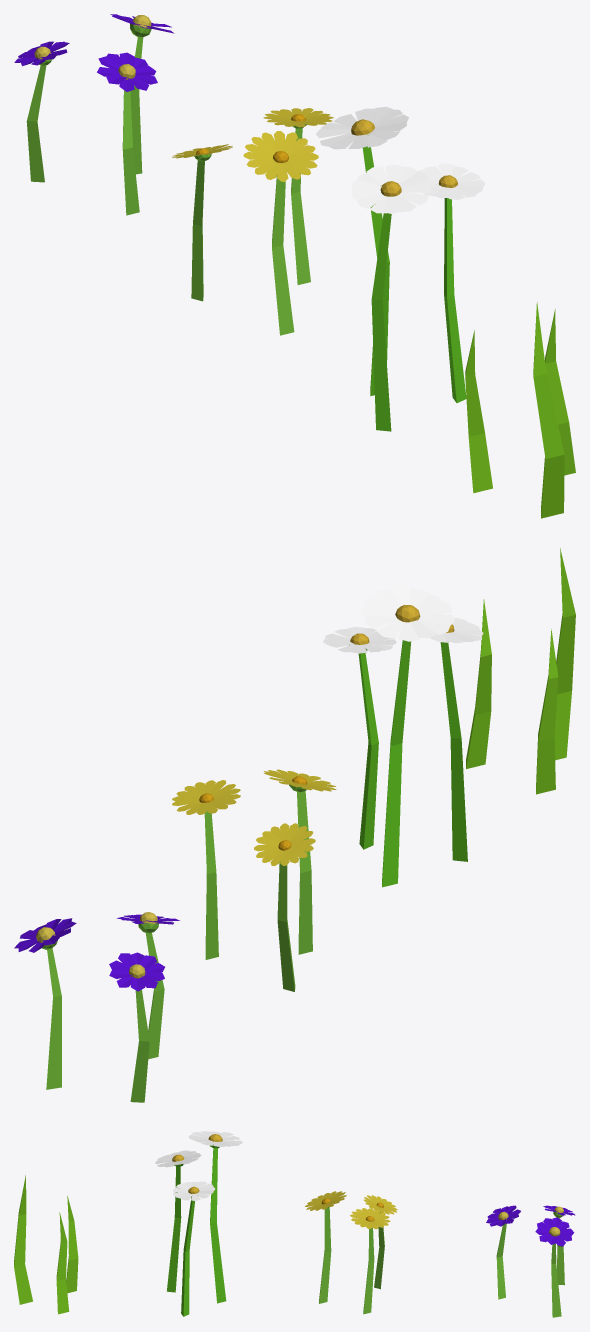
The model's file is grass.obj.
3 renders of one model, top to bottom at view 1: azimuth 30°, elevation 25°; view 2: azimuth 150°, elevation 25°; view 3: azimuth 270°, elevation 25°, orthographic. The views are drawn at different scales.
Parts seen in each view (by area): view 1: Cylinder, Cylinder.002_Cylinder.003, Cylinder.001, Cylinder.003_Cylinder.005; view 2: Cylinder, Cylinder.002_Cylinder.003, Cylinder.003_Cylinder.005, Cylinder.001; view 3: Cylinder, Cylinder.002_Cylinder.003, Cylinder.001, Cylinder.003_Cylinder.005.
Part boxes in pixels (x1,y1,x2,y2): Cylinder: [316, 106, 485, 431]; Cylinder.002_Cylinder.003: [172, 108, 333, 335]; Cylinder.001: [465, 302, 575, 518]; Cylinder.003_Cylinder.005: [14, 14, 174, 215]; Cylinder: [323, 585, 483, 887]; Cylinder.002_Cylinder.003: [172, 769, 336, 991]; Cylinder.003_Cylinder.005: [14, 912, 179, 1102]; Cylinder.001: [466, 548, 575, 794]; Cylinder: [155, 1131, 242, 1316]; Cylinder.002_Cylinder.003: [305, 1191, 397, 1314]; Cylinder.001: [14, 1175, 78, 1314]; Cylinder.003_Cylinder.005: [486, 1205, 575, 1317].
Bounding box in the file's own units: 0.1611 × 0.2942 × 0.9109.
